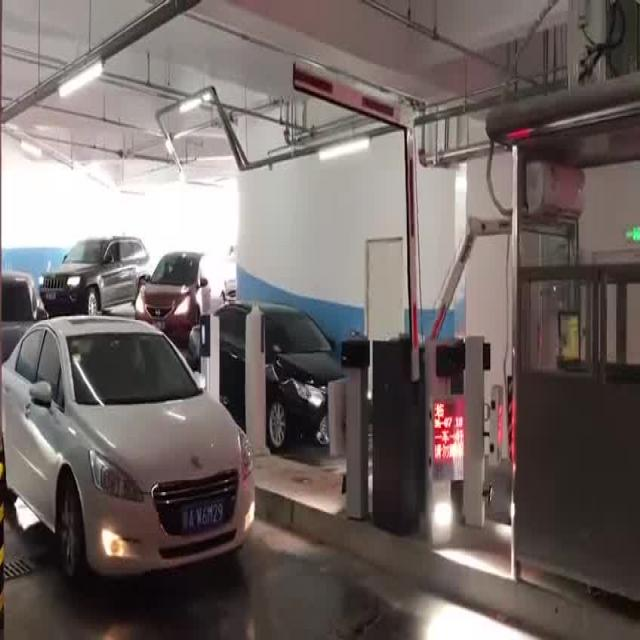CarIn: (1, 316, 255, 573), (188, 299, 355, 444), (32, 221, 156, 327), (132, 236, 238, 352)
GateOpened: (287, 57, 424, 407)
